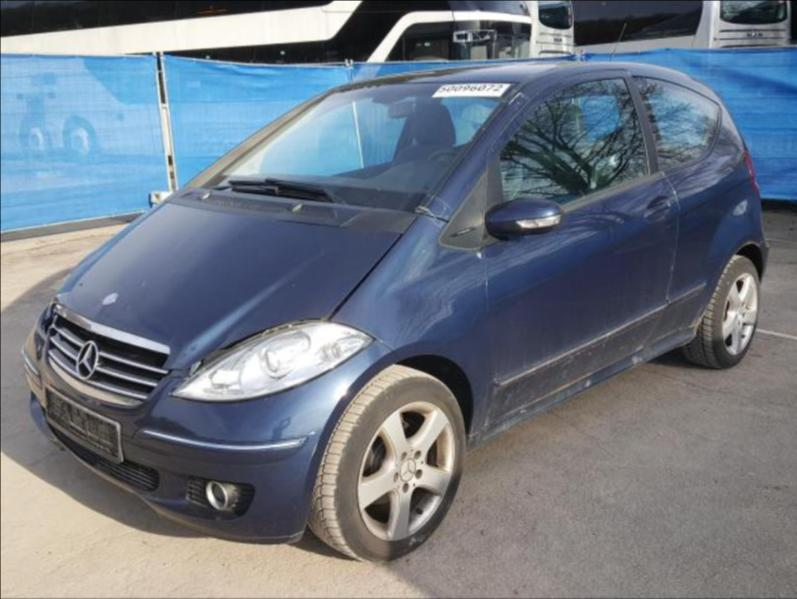Broken part: (161, 233, 405, 383)
Dent: (123, 302, 132, 311), (139, 278, 147, 287)
Flaking: (54, 304, 92, 330)
Missing part: (46, 387, 118, 460), (38, 298, 58, 332)
Scratch: (481, 304, 664, 425), (468, 418, 504, 444), (430, 195, 456, 223), (691, 309, 704, 337), (509, 91, 529, 104), (101, 292, 120, 305), (452, 227, 472, 237), (408, 535, 425, 546), (415, 206, 435, 215), (503, 391, 514, 406), (631, 355, 643, 365), (583, 379, 594, 387), (560, 360, 571, 367), (516, 409, 528, 414)
